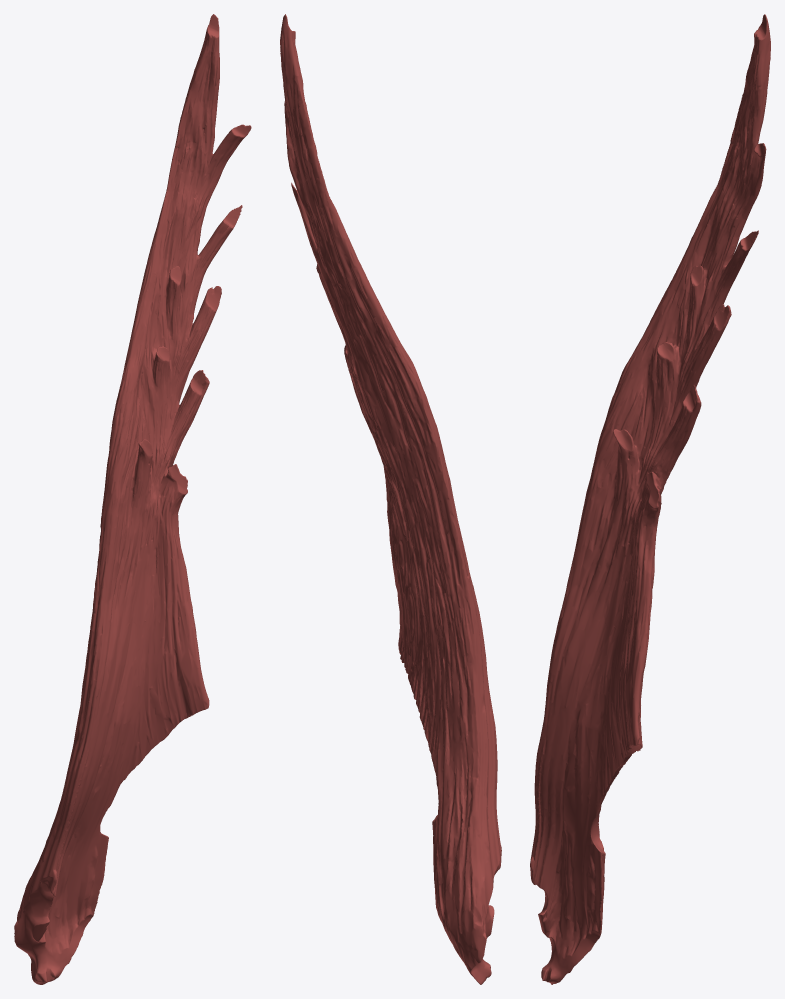
Rendered from FMA22741.glb.
The picture shows the model from 3 angles, left to right: view 1: azimuth 30°, elevation 25°; view 2: azimuth 150°, elevation 25°; view 3: azimuth 330°, elevation 25°; orthographic projection. The views are drawn at different scales.
Parts seen in each view (by area): view 1: FMA22741; view 2: FMA22741; view 3: FMA22741.
Part boxes in pixels (x1,y1,x2,y2): FMA22741: [14, 14, 251, 984]; FMA22741: [280, 14, 501, 984]; FMA22741: [530, 14, 770, 984].
Size of the model in its own units: 0.0938 by 0.3777 by 0.046.
